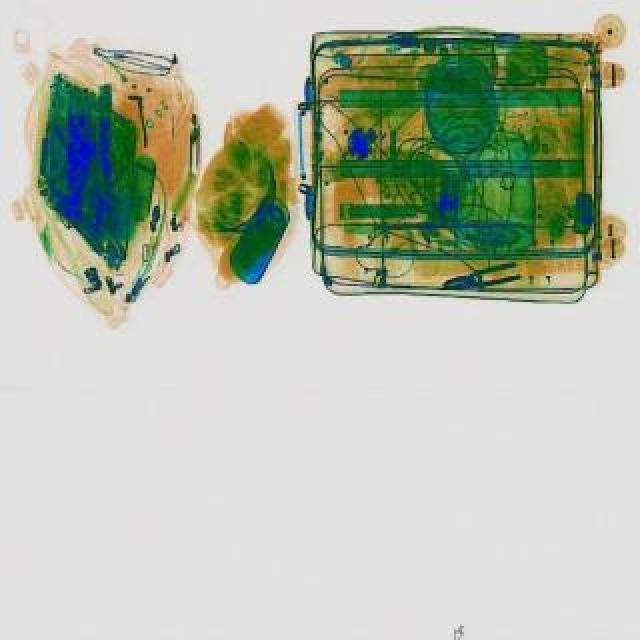wrench: (442, 264, 522, 300)
